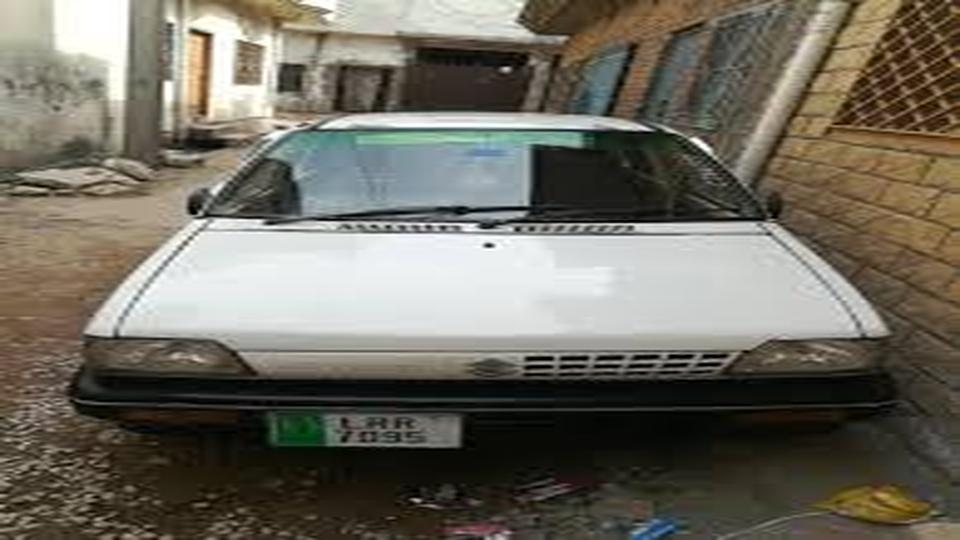NumberPlate: (254, 393, 481, 474)
